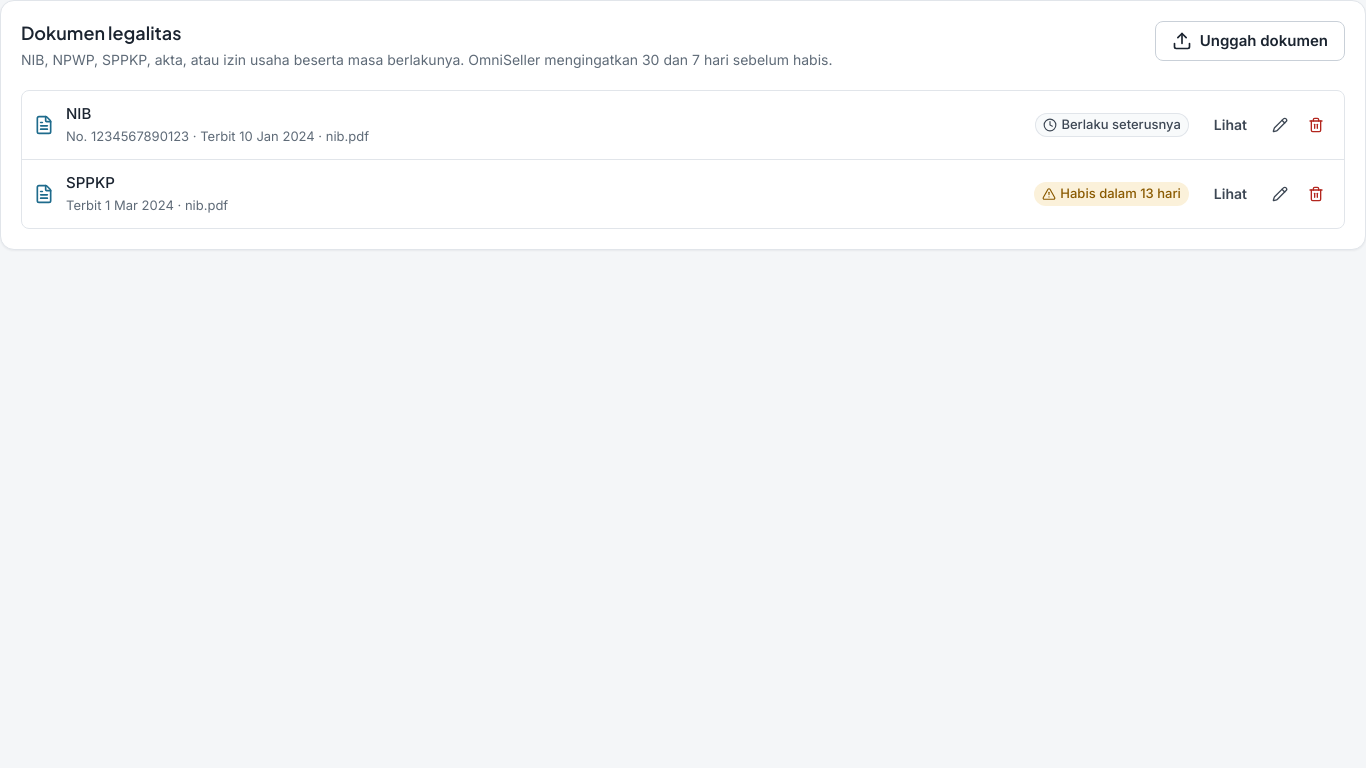
it: Dokumen legalitas › renews a document by its new end date, and removes one after asking
Click the button named "Ubah SPPKP" at (1280, 194), box top-left (1264, 178), bottom-right (1296, 210)
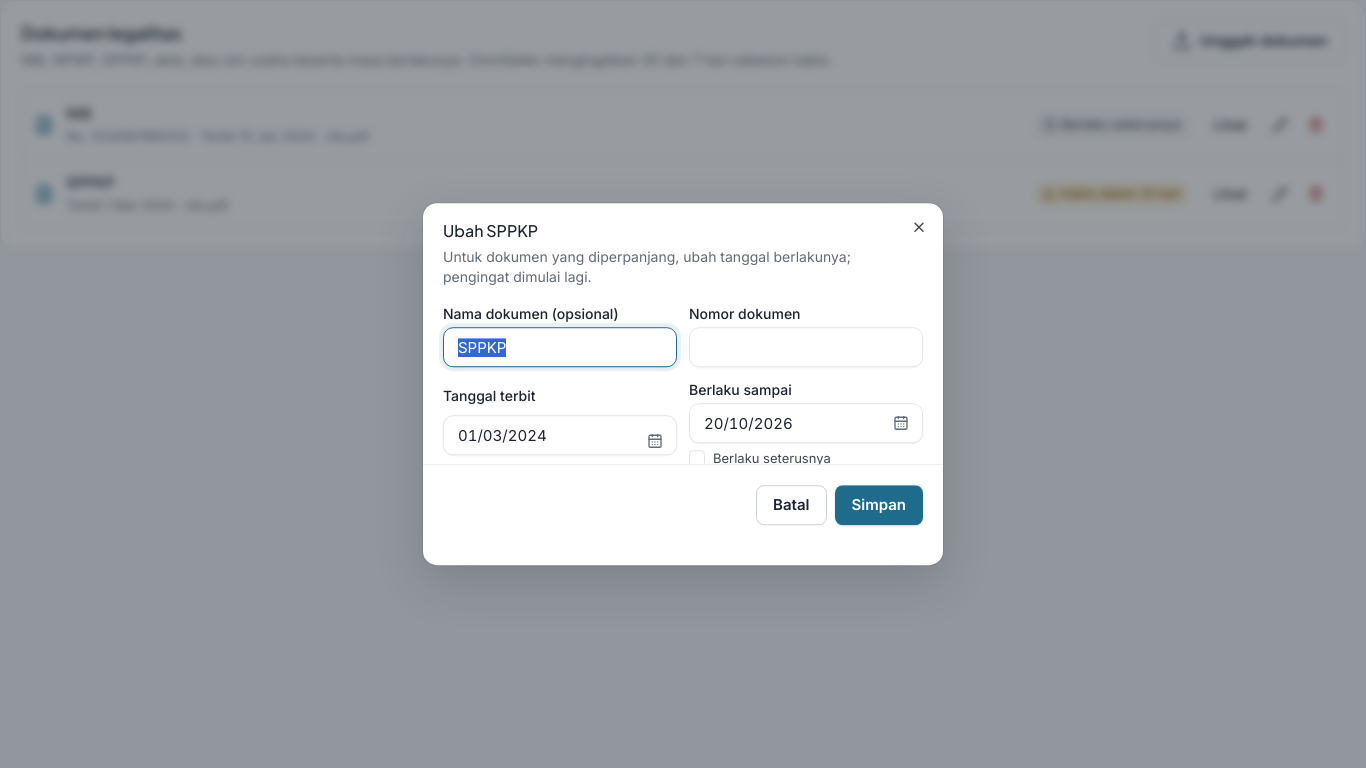
Now the field labelled "Berlaku sampai" holds "20/10/2026"
Replace the text in the field labelled "Berlaku sampai" with "2031-10-20" at (806, 423), box top-left (689, 403), bottom-right (923, 443)
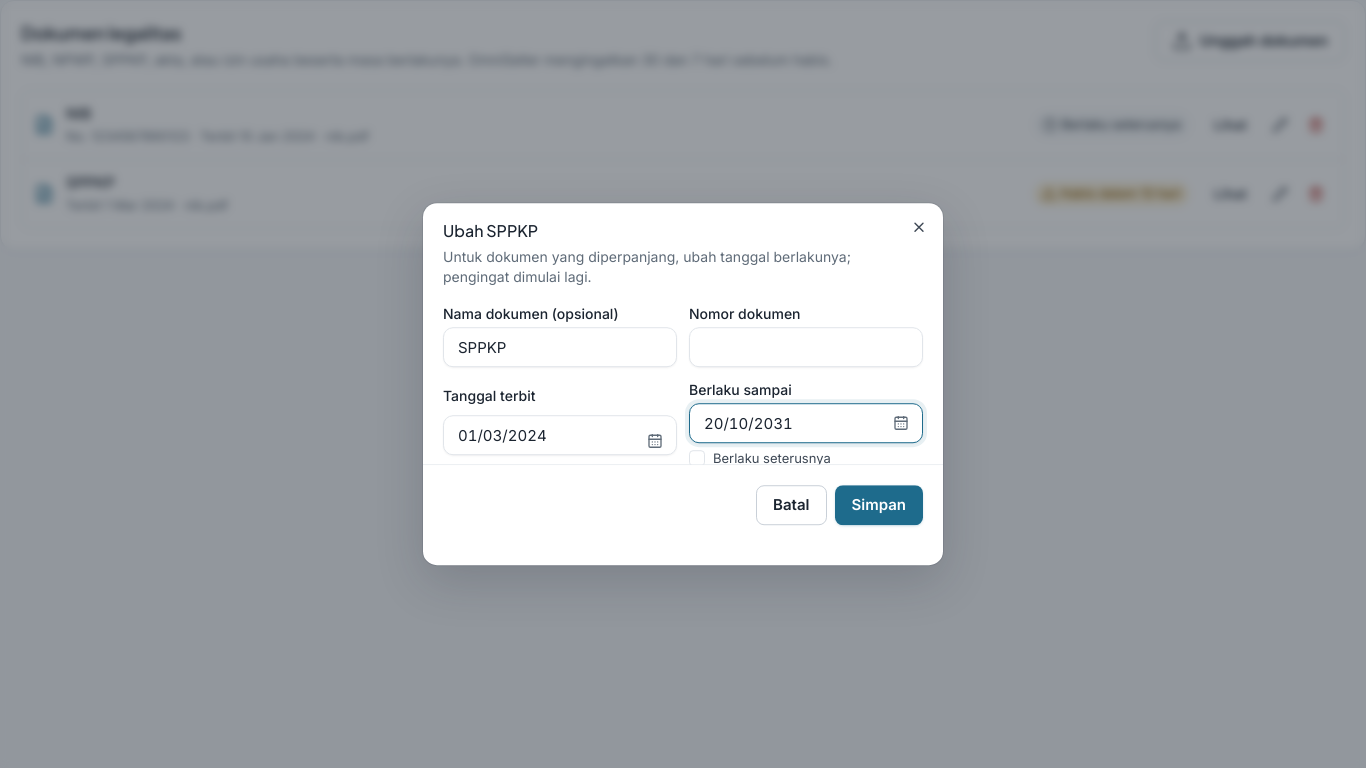
Click the button "Simpan" at (879, 505), box top-left (834, 485), bottom-right (923, 525)
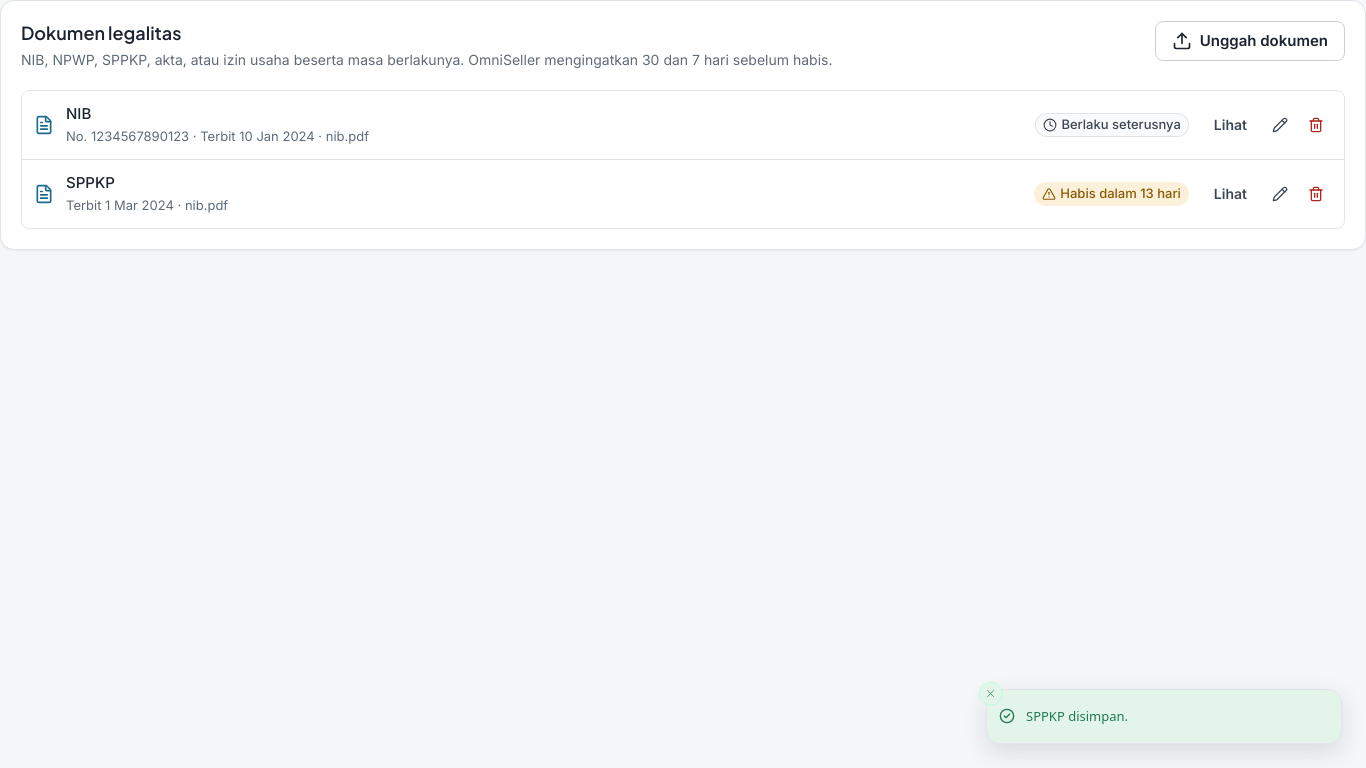
Now the text "SPPKP disimpan." is shown, box top-left (1026, 706), bottom-right (1128, 727)
Click the button named "Hapus NIB" at (1316, 125), box top-left (1300, 109), bottom-right (1332, 141)
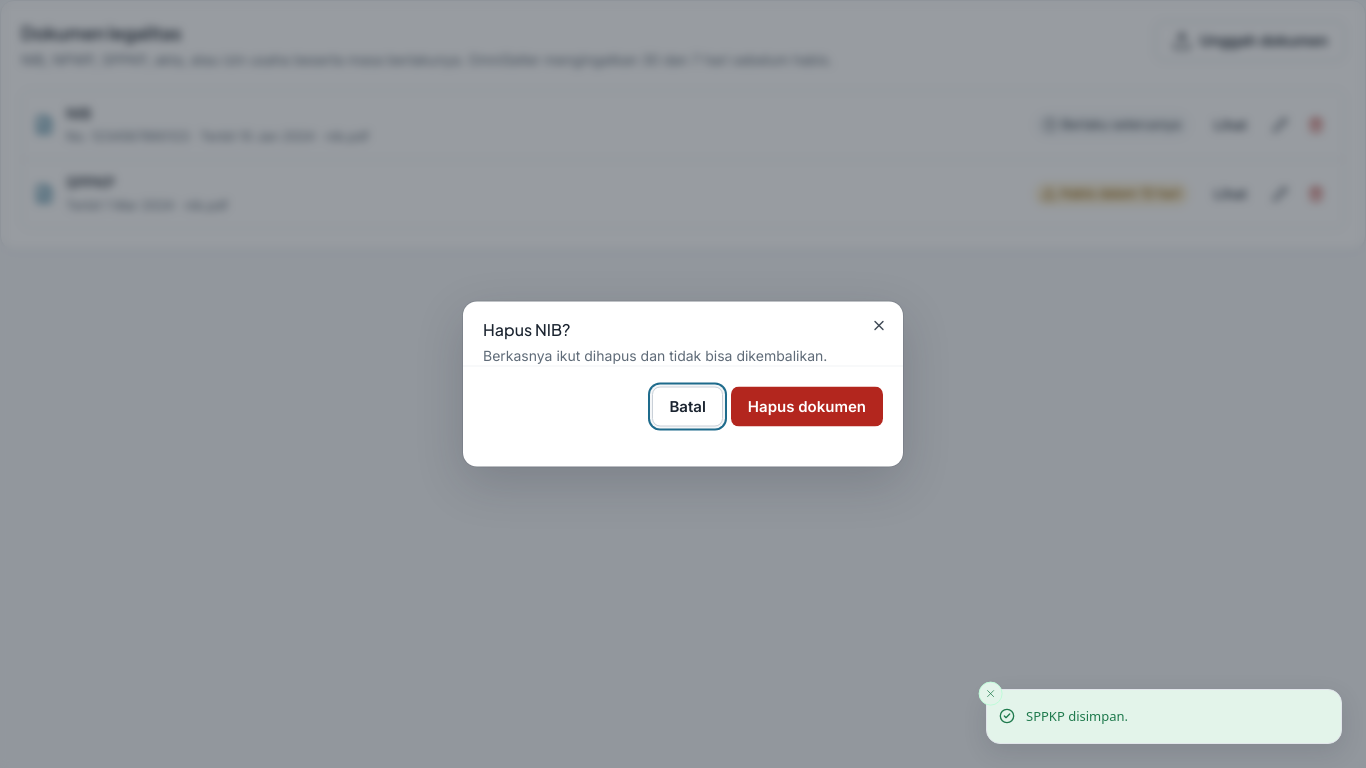
Now the dialog "Hapus NIB?" shows "Berkasnya ikut dihapus dan tidak bisa dikembalikan.", box top-left (483, 346), bottom-right (827, 364)
Click the button "Hapus dokumen" at (807, 406), box top-left (731, 386), bottom-right (883, 426)
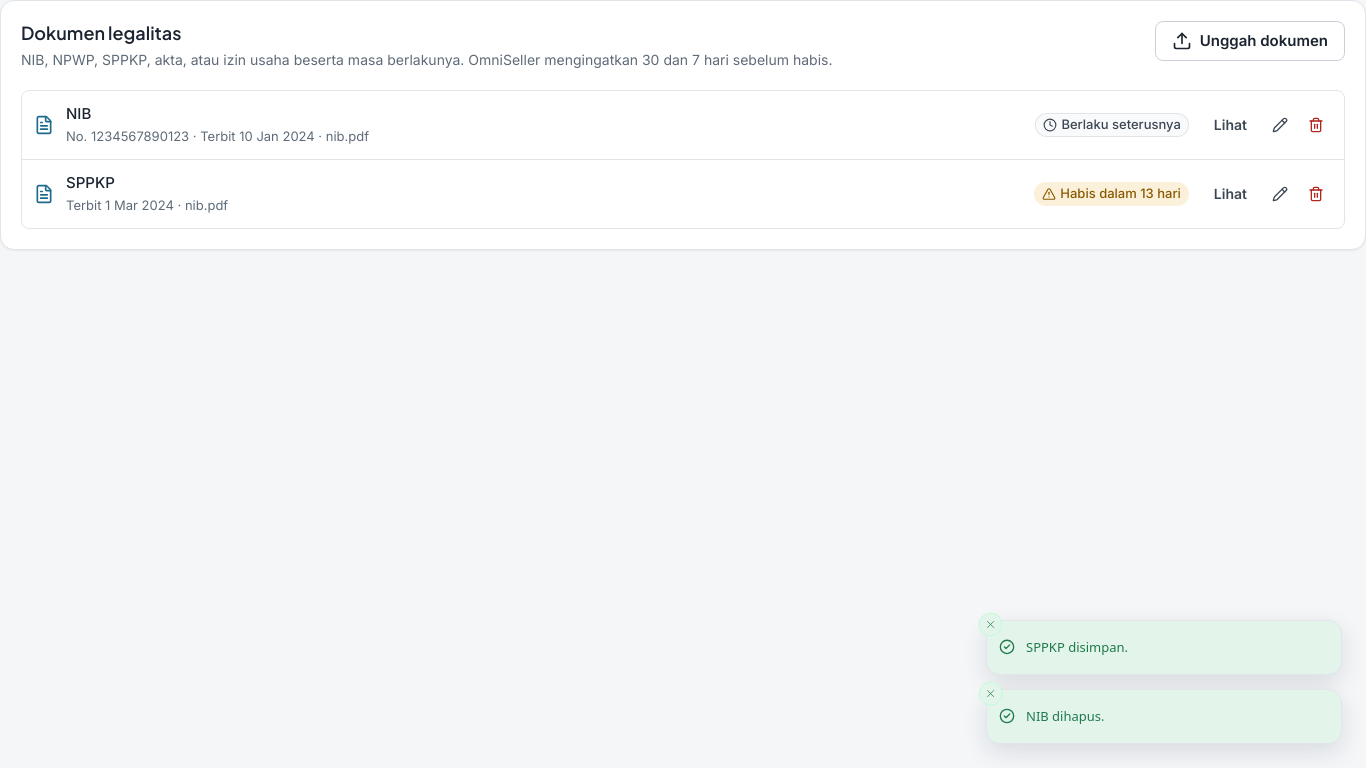
Now the text "NIB dihapus." is shown, box top-left (1026, 706), bottom-right (1104, 727)
